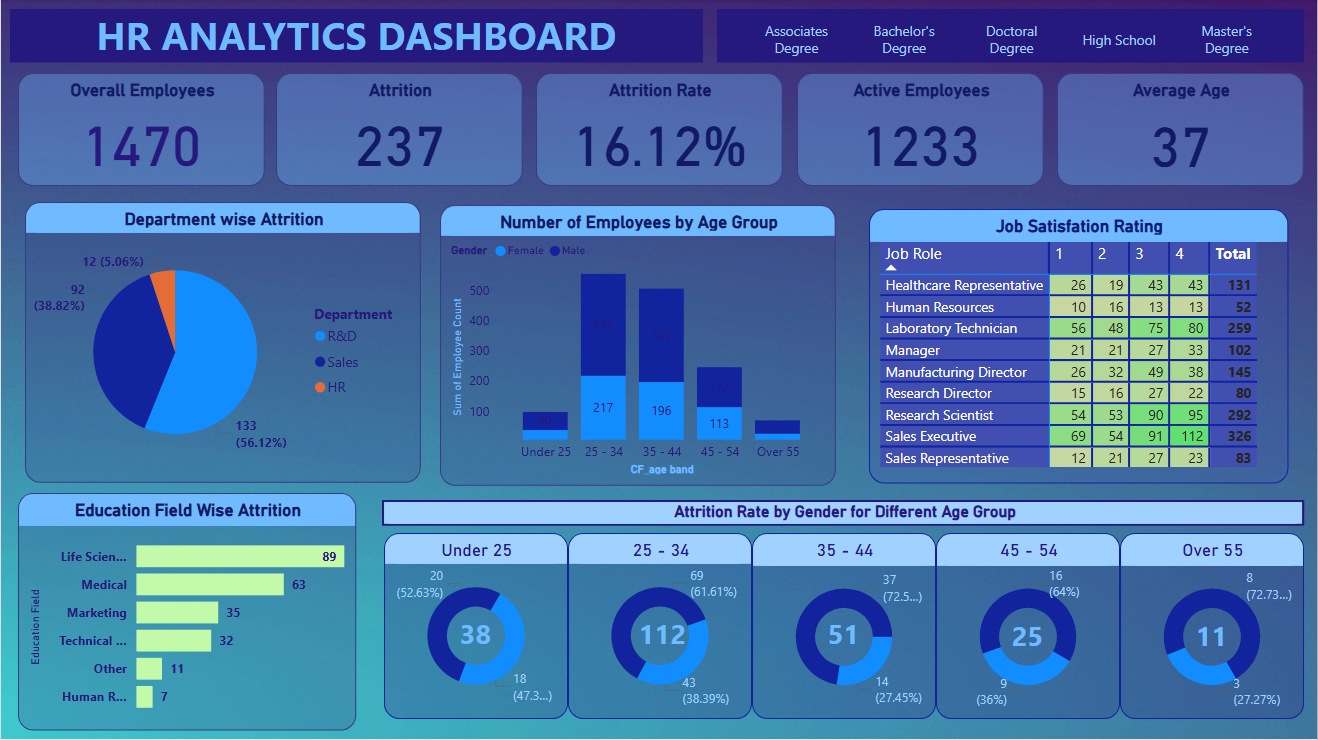

Layout of this report page (visuals, bound fields, positions):
{"tool":"powerbi","page":{"name":"Page 1","canvas":[1280,720],"ordinal":0},"visuals":[{"type":"card","title":"Overall Employees","fields":{"Values":["Sum(HR data.Employee Count)"]},"box":[16.5,72,240.2,109.9],"z":0},{"type":"card","title":"Attrition","fields":{"Values":["Sum(HR data.Attrition count)"]},"box":[267.5,72,240.2,109.9],"z":1000},{"type":"card","title":"Attrition Rate","fields":{"Values":["HR data.Attrition Rate"]},"box":[520.4,72,240,109.9],"z":2000},{"type":"card","title":"Active Employees","fields":{"Values":["HR data.Active Employees"]},"box":[774.2,72,240.2,109.9],"z":3000},{"type":"card","title":"Average Age","fields":{"Values":["Avg(HR data.Age)"]},"box":[1027.1,72,240.2,109.9],"z":4000},{"type":"pieChart","title":"Department wise Attrition","fields":{"Category":["HR data.Department"],"Y":["Sum(HR data.Attrition count)"]},"box":[23.3,197.4,385.2,273.3],"z":5000},{"type":"columnChart","title":"Number of Employees by Age Group","fields":{"Category":["HR data.CF_age band"],"Y":["Sum(HR data.Employee Count)"],"Series":["HR data.Gender"]},"box":[427,200.4,385.2,273.3],"z":6000},{"type":"pivotTable","title":"Job Satisfation Rating","fields":{"Values":["Sum(HR data.Employee Count)"],"Rows":["HR data.Job Role"],"Columns":["HR data.Job Satisfaction"]},"box":[844.3,204.3,407.5,266.5],"z":7000},{"type":"barChart","title":"Education Field Wise Attrition","fields":{"Y":["Sum(HR data.Attrition count)"],"Category":["HR data.Education Field"]},"box":[16.5,480.5,328.8,231.5],"z":8000},{"type":"donutChart","title":"Under 25","fields":{"Category":["HR data.Gender"],"Y":["Sum(HR data.Attrition count)"],"Series":["HR data.CF_age band"]},"box":[372.5,519.4,179,180.9],"z":9000},{"type":"textbox","title":"Attrition Rate by Gender for Different Age Group","box":[370.6,487.3,896.8,25.3],"z":10000},{"type":"donutChart","title":"25 - 34","fields":{"Category":["HR data.Gender"],"Y":["Sum(HR data.Attrition count)"],"Series":["HR data.CF_age band"]},"box":[551.5,519.4,179,180.9],"z":11000},{"type":"donutChart","title":"35 - 44","fields":{"Category":["HR data.Gender"],"Y":["Sum(HR data.Attrition count)"],"Series":["HR data.CF_age band"]},"box":[730.5,519.4,179,180.9],"z":12000},{"type":"donutChart","title":"45 - 54","fields":{"Category":["HR data.Gender"],"Y":["Sum(HR data.Attrition count)"],"Series":["HR data.CF_age band"]},"box":[909.4,519.4,179,180.9],"z":13000},{"type":"donutChart","title":"Over 55","fields":{"Category":["HR data.Gender"],"Y":["Sum(HR data.Attrition count)"],"Series":["HR data.CF_age band"]},"box":[1088.4,519.4,179,180.9],"z":14000},{"type":"card","fields":{"Values":["Sum(HR data.Attrition count)"]},"box":[436.7,596.2,49.6,42.8],"z":15000},{"type":"card","fields":{"Values":["Sum(HR data.Attrition count)"]},"box":[614.7,598.2,57.4,38.9],"z":16000},{"type":"card","fields":{"Values":["Sum(HR data.Attrition count)"]},"box":[794.7,598.2,49.6,38.9],"z":17000},{"type":"card","fields":{"Values":["Sum(HR data.Attrition count)"]},"box":[973.6,600.1,49.6,38.9],"z":18000},{"type":"card","fields":{"Values":["Sum(HR data.Attrition count)"]},"box":[1152.6,600.1,49.6,38.9],"z":19000},{"type":"textbox","title":"HR ANALYTICS DASHBOARD","box":[8.8,9.7,674,51.6],"z":20000},{"type":"slicer","fields":{"Values":["HR data.Education"]},"box":[696.4,9.7,570.9,51.6],"z":21000}]}

Visuals, with their boxes in screenshot pixels (x1, y1, x2, y2), scaled from the page's 1280x720 canvas onto the 1318x740 screenshot:
"Overall Employees" card: select_region(17, 74, 264, 187)
"Attrition" card: select_region(275, 74, 523, 187)
"Attrition Rate" card: select_region(536, 74, 783, 187)
"Active Employees" card: select_region(797, 74, 1045, 187)
"Average Age" card: select_region(1058, 74, 1305, 187)
"Department wise Attrition" pieChart: select_region(24, 203, 421, 484)
"Number of Employees by Age Group" columnChart: select_region(440, 206, 836, 487)
"Job Satisfation Rating" pivotTable: select_region(869, 210, 1289, 484)
"Education Field Wise Attrition" barChart: select_region(17, 494, 356, 732)
"Under 25" donutChart: select_region(384, 534, 568, 720)
"Attrition Rate by Gender for Different Age Group" textbox: select_region(382, 501, 1305, 527)
"25 - 34" donutChart: select_region(568, 534, 752, 720)
"35 - 44" donutChart: select_region(752, 534, 937, 720)
"45 - 54" donutChart: select_region(936, 534, 1121, 720)
"Over 55" donutChart: select_region(1121, 534, 1305, 720)
card - Sum(HR data.Attrition count): select_region(450, 613, 501, 657)
card - Sum(HR data.Attrition count): select_region(633, 615, 692, 655)
card - Sum(HR data.Attrition count): select_region(818, 615, 869, 655)
card - Sum(HR data.Attrition count): select_region(1003, 617, 1054, 657)
card - Sum(HR data.Attrition count): select_region(1187, 617, 1238, 657)
"HR ANALYTICS DASHBOARD" textbox: select_region(9, 10, 703, 63)
slicer - HR data.Education: select_region(717, 10, 1305, 63)
